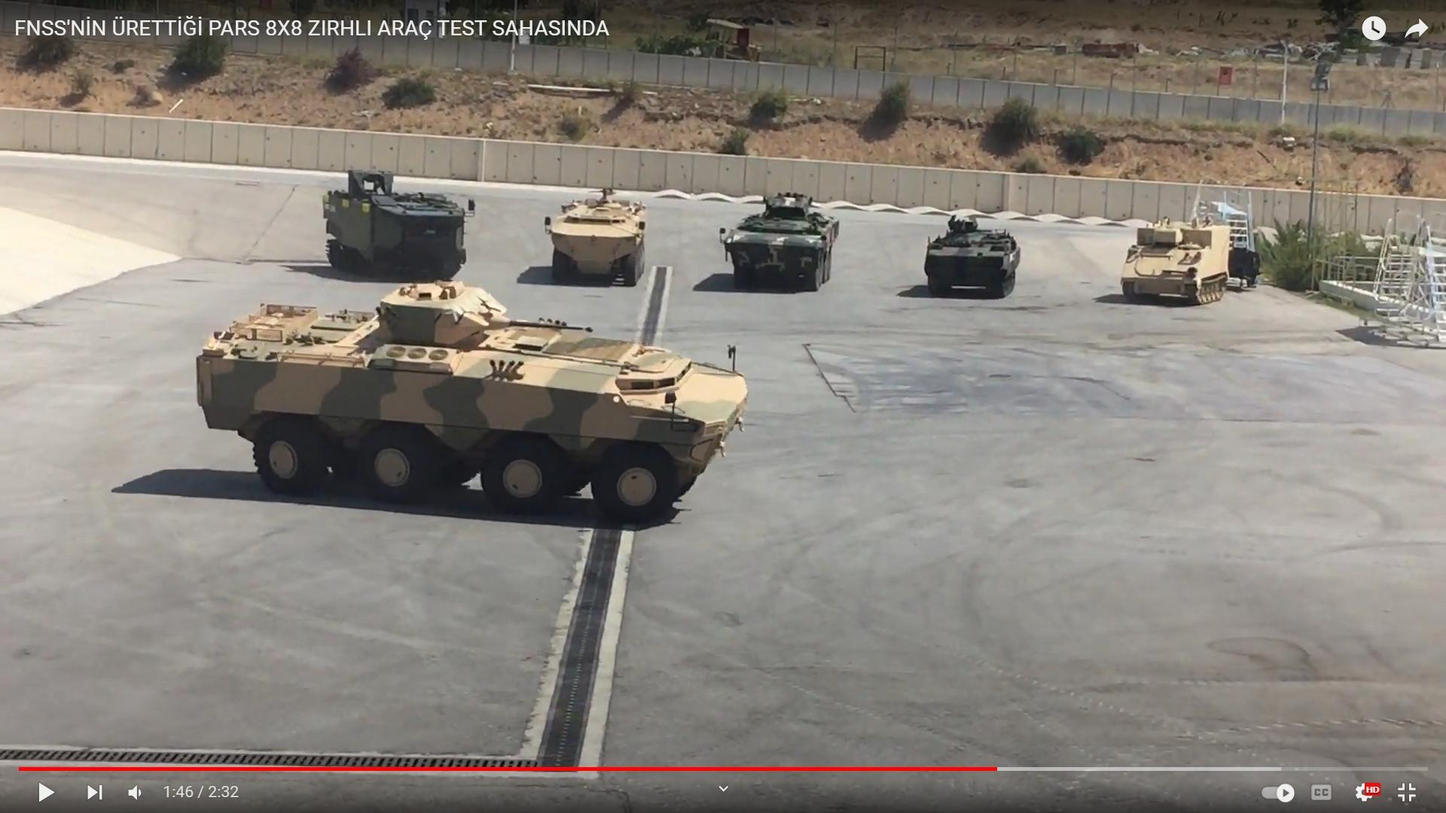armored_car: (193, 271, 752, 524), (721, 193, 841, 292), (1119, 215, 1237, 305), (546, 187, 650, 287), (918, 205, 1022, 303)
